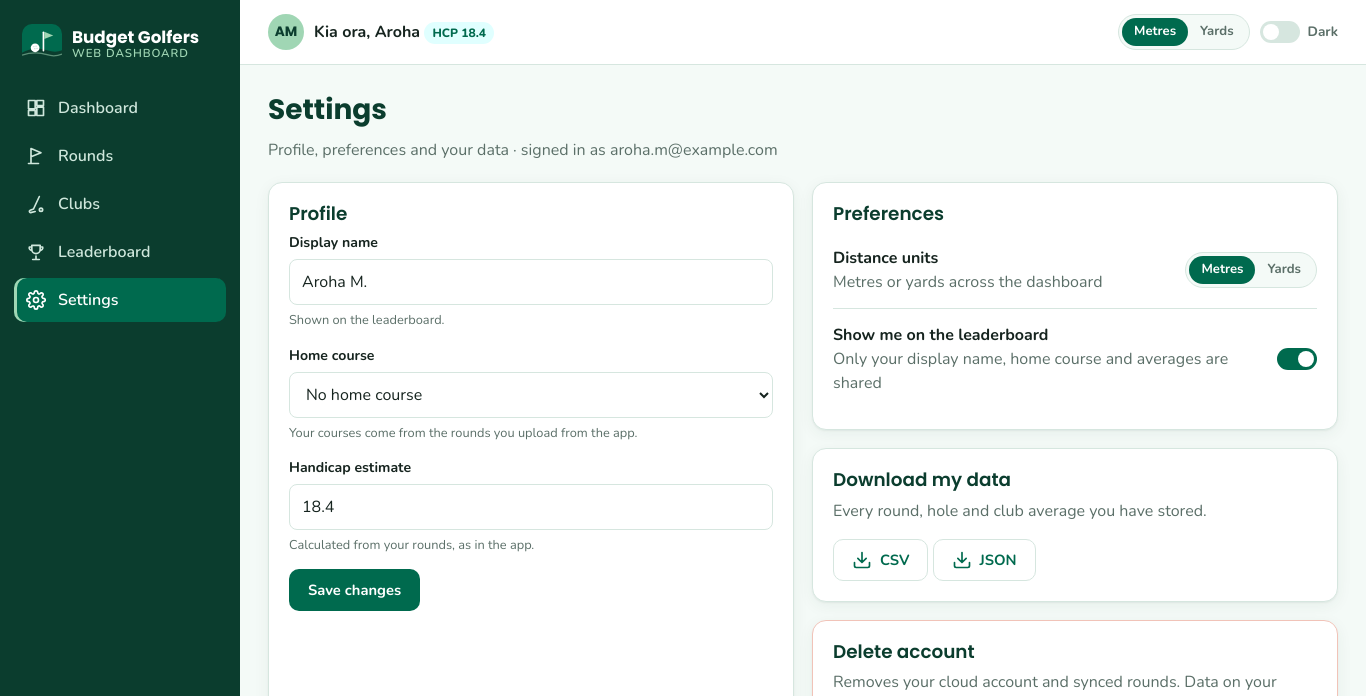
Test case: settings › a 422 from the profile form is shown beside the field
Click the button "Save changes" at [355, 590], box [289, 569, 420, 611]
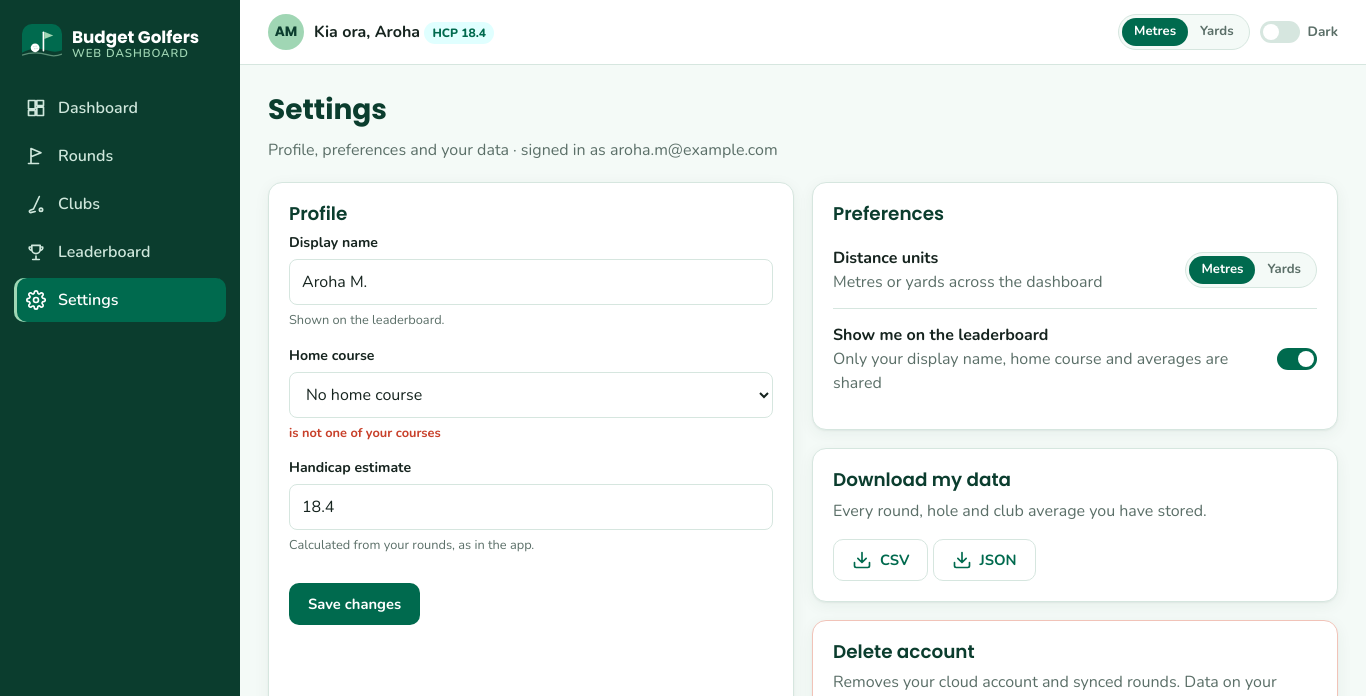
Now the text "is not one of your courses" is shown, box [289, 424, 441, 442]
